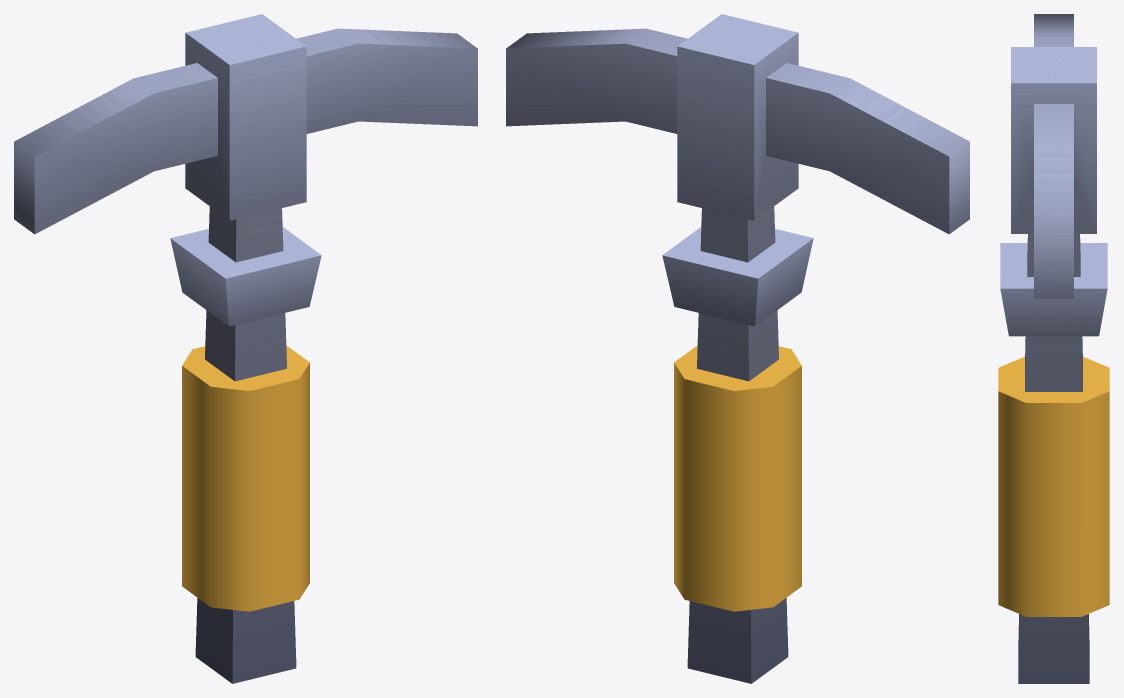
File: picareta.glb
3 renders of one model, left to right at view 1: azimuth 30°, elevation 25°; view 2: azimuth 150°, elevation 25°; view 3: azimuth 270°, elevation 25°, orthographic. The views are drawn at different scales.
Visible parts, largest first — view 1: tool-pickaxe-upgraded; view 2: tool-pickaxe-upgraded; view 3: tool-pickaxe-upgraded.
Part boxes in pixels (x1,y1,x2,y2): tool-pickaxe-upgraded: (14,14,477,683); tool-pickaxe-upgraded: (506,14,969,683); tool-pickaxe-upgraded: (998,14,1109,683).
Bounding box in the file's own units: 0.1786 × 0.24 × 0.04.
Materials: 1 (1 with a texture image).
